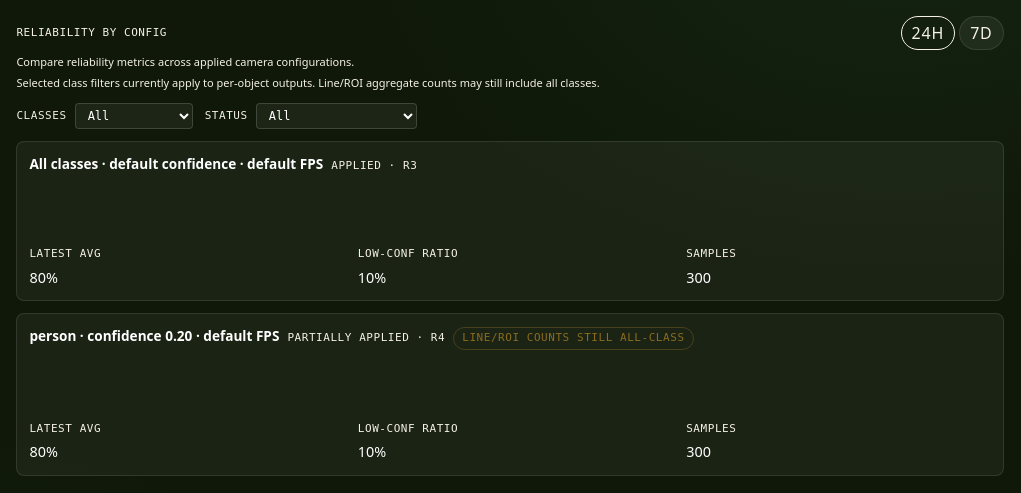
Test: ReliabilityByConfigCard › class filter narrows groups client-side
The width and height of the screenshot is (1021, 493).
Select "person" in the dropdown labelled "Classes": (134, 116) [75,103,193,129]
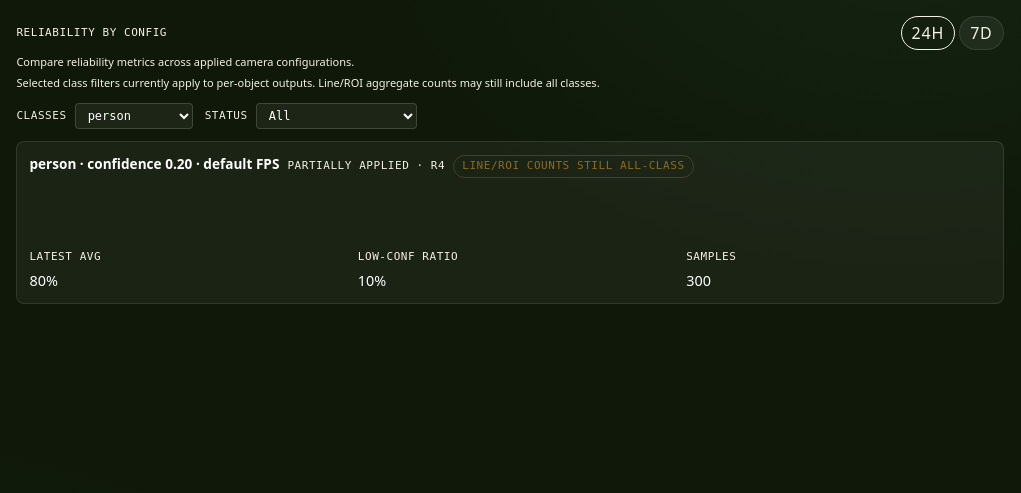
Check: the text "person · confidence 0.20 · default FPS" is shown, box [29,154,279,175]
Check: the text "All classes · default confidence · default FPS" is gone
